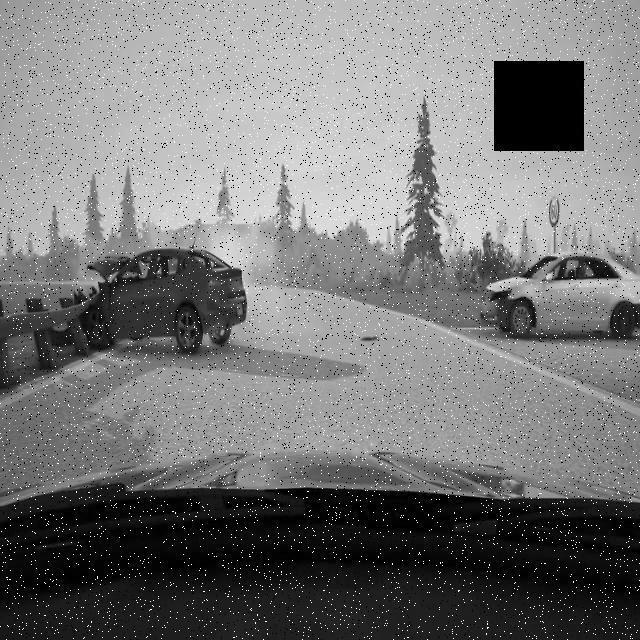accident: (68, 240, 248, 356)
vehicle: (477, 245, 640, 342)
